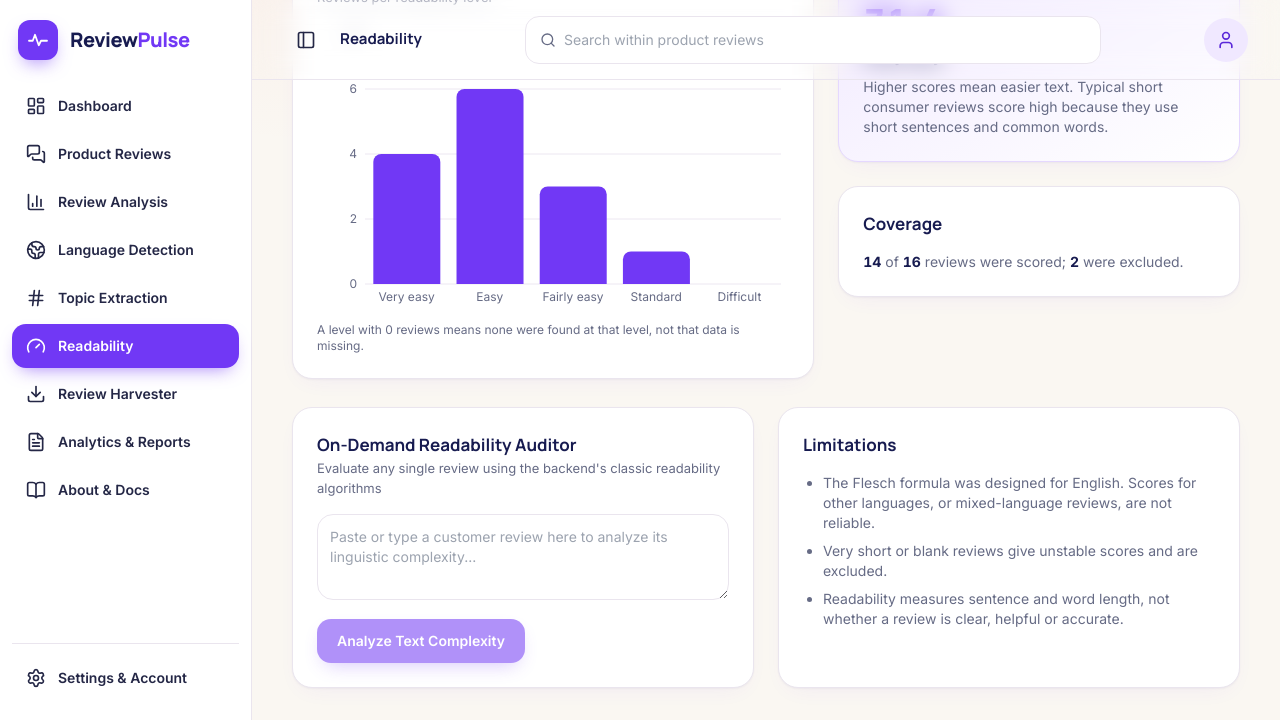
Test case: Interactive On-Demand Tool Integrations › READ-03: executes readability complexity audit and displays linguistic metrics
The width and height of the screenshot is (1280, 720).
(page scrolled)
Type "The camera is crystal clear and very responsive." into the text box with placeholder "Paste or type a customer review here" at x=523, y=557, box [317,514,729,600]
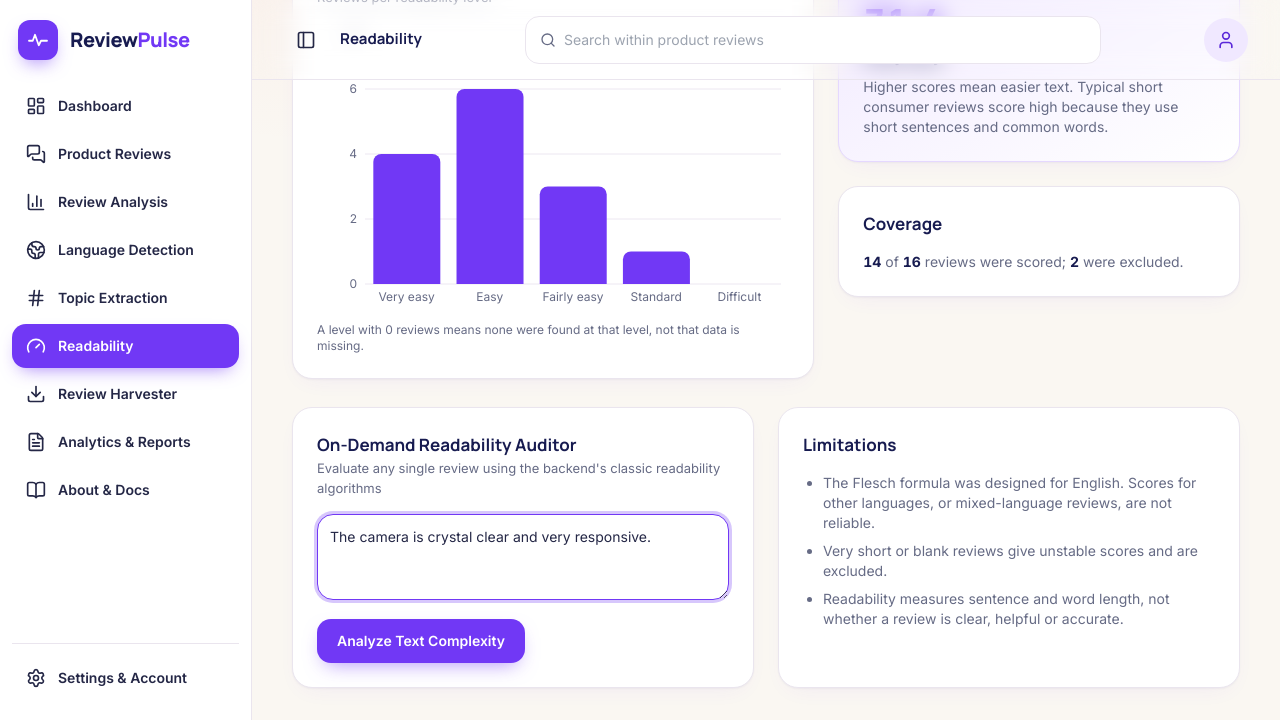
Click the button "Analyze Text Complexity" at x=421, y=640, box [317,618,525,662]
(page scrolled)
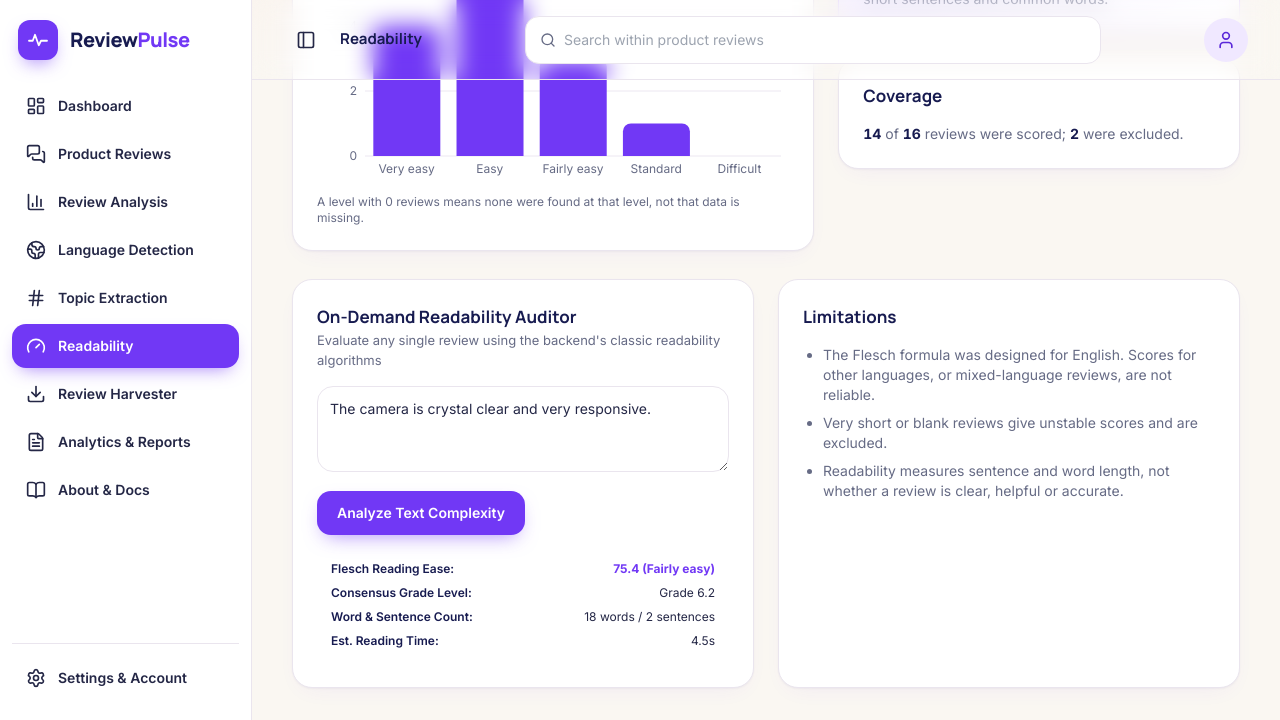
Check: the text "75.4 (Fairly easy)" is shown, box [613,560,715,576]
Check: the text "Grade 6.2" is shown, box [659,584,715,600]
Check: the text "18 words / 2 sentences" is shown, box [584,608,715,624]
